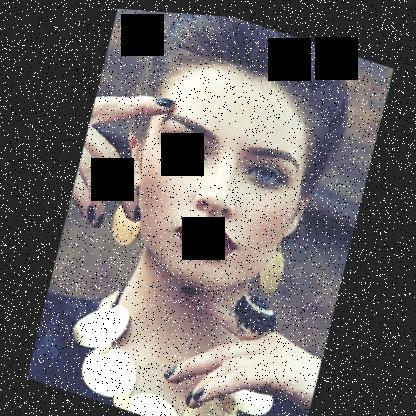Female: (98, 33, 335, 313)
